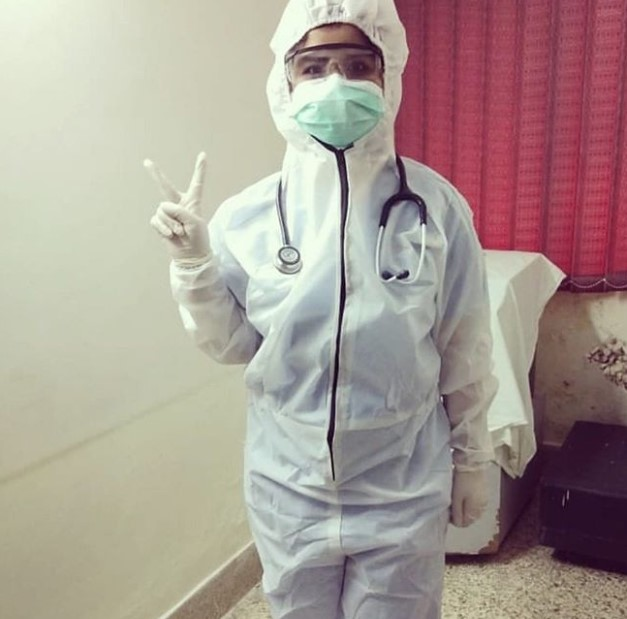face_with_mask: (267, 6, 406, 147)
